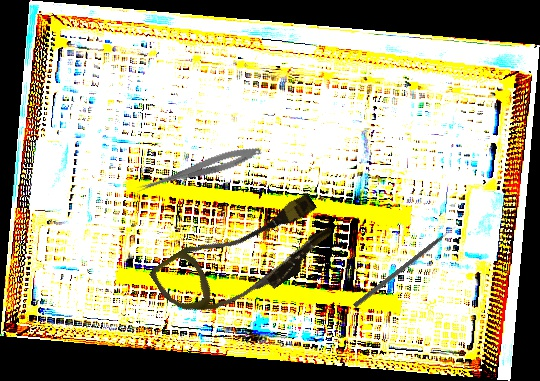Cannula: (147, 175, 342, 342)
Hook Surgical: (352, 224, 459, 310)
Micro Scissor: (134, 141, 264, 200)
